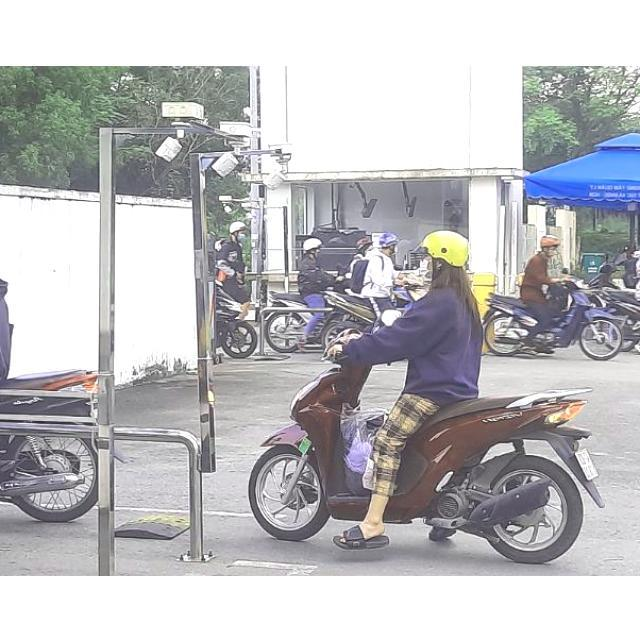Helmet: (418, 230, 471, 280)
